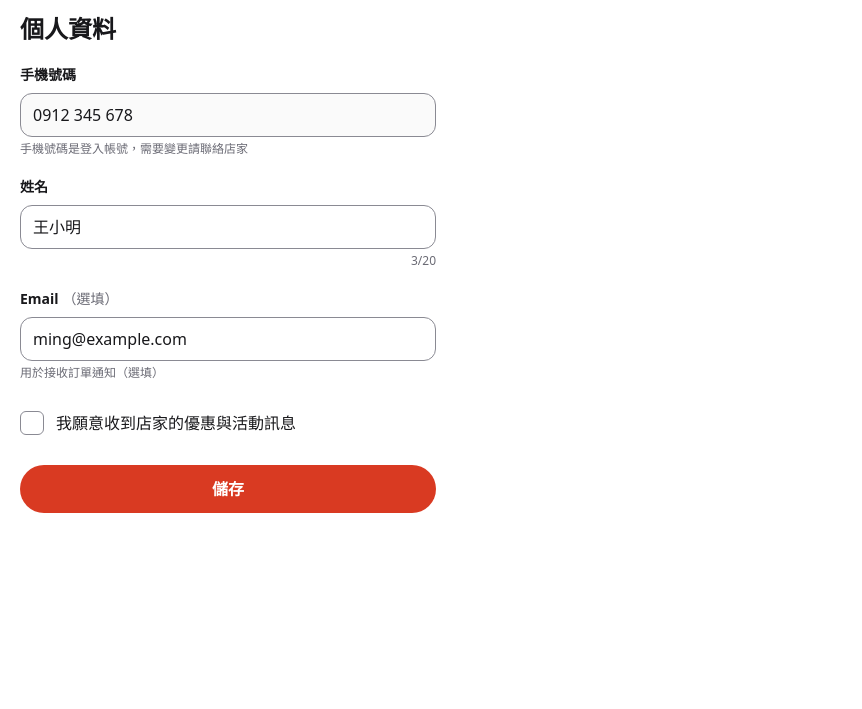
Scenario: ProfilePage › 只送出有變更的欄位，成功後更新 Session 並 Toast
The image size is (862, 709).
Replace the text in the field labelled "姓名" with "王大明" at (228, 227), box [20,205,436,249]
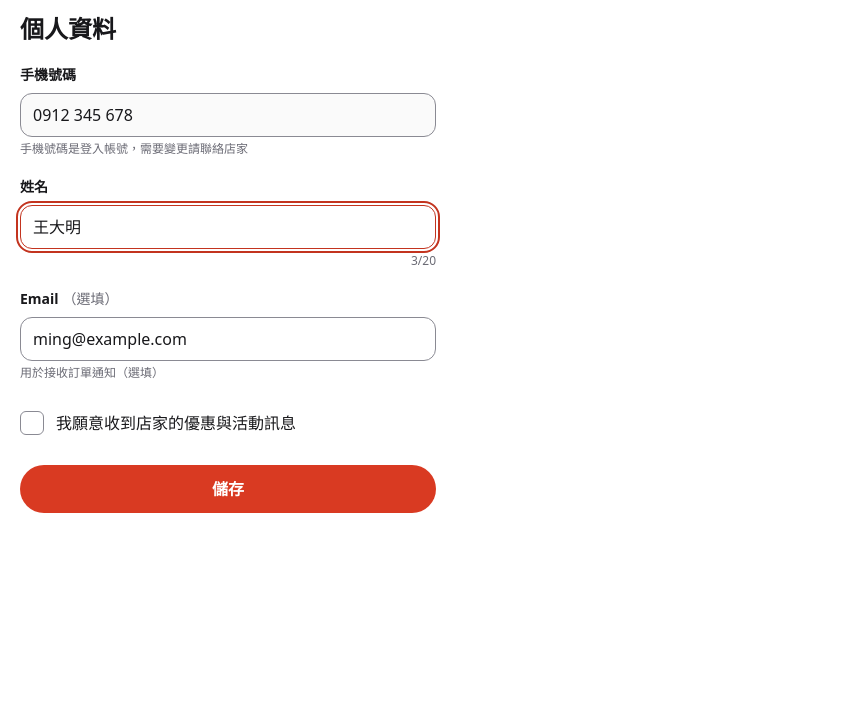
Click the checkbox labelled "我願意收到店家的優惠與活動訊息" at (158, 423), box [20,411,296,435]
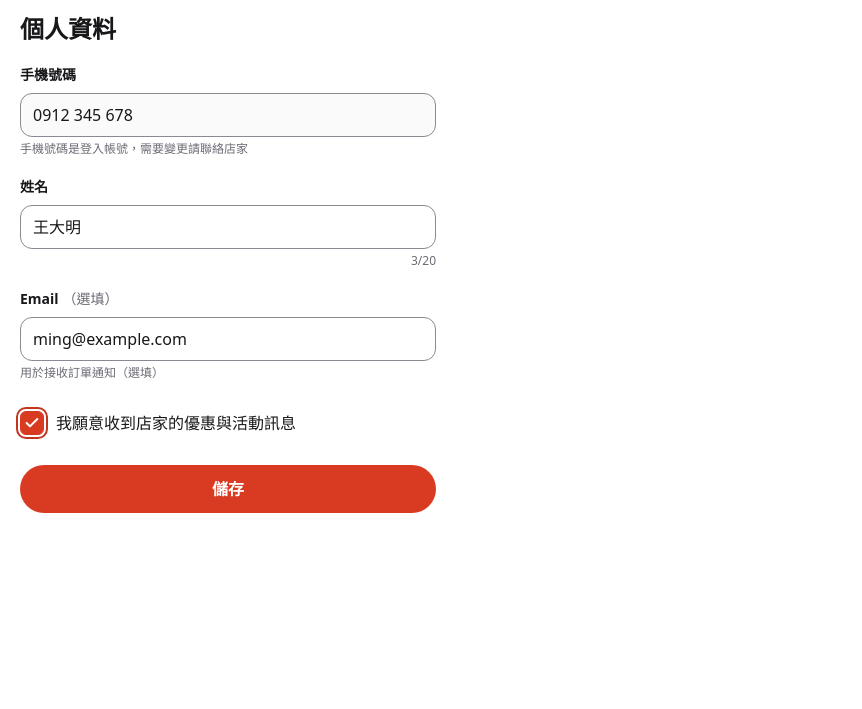
Click the button "儲存" at (228, 489), box [20,465,436,513]
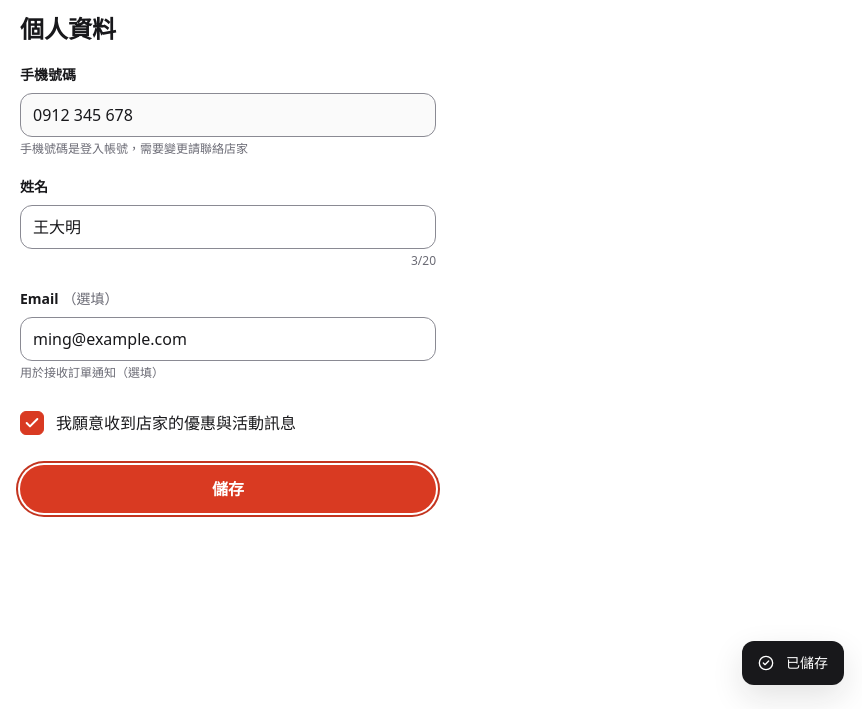
Now the text "已儲存" is shown, box [786,653,828,673]
